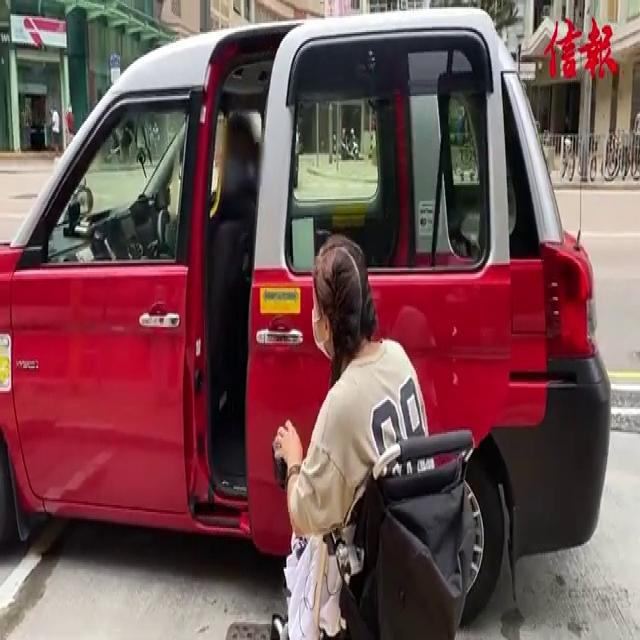wheelchairs: (245, 371, 508, 640)
